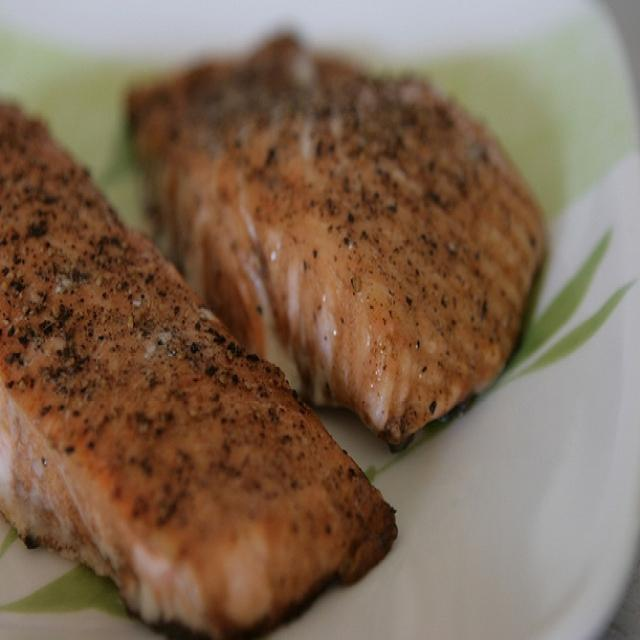熟制海鲜: (5, 17, 617, 621)
